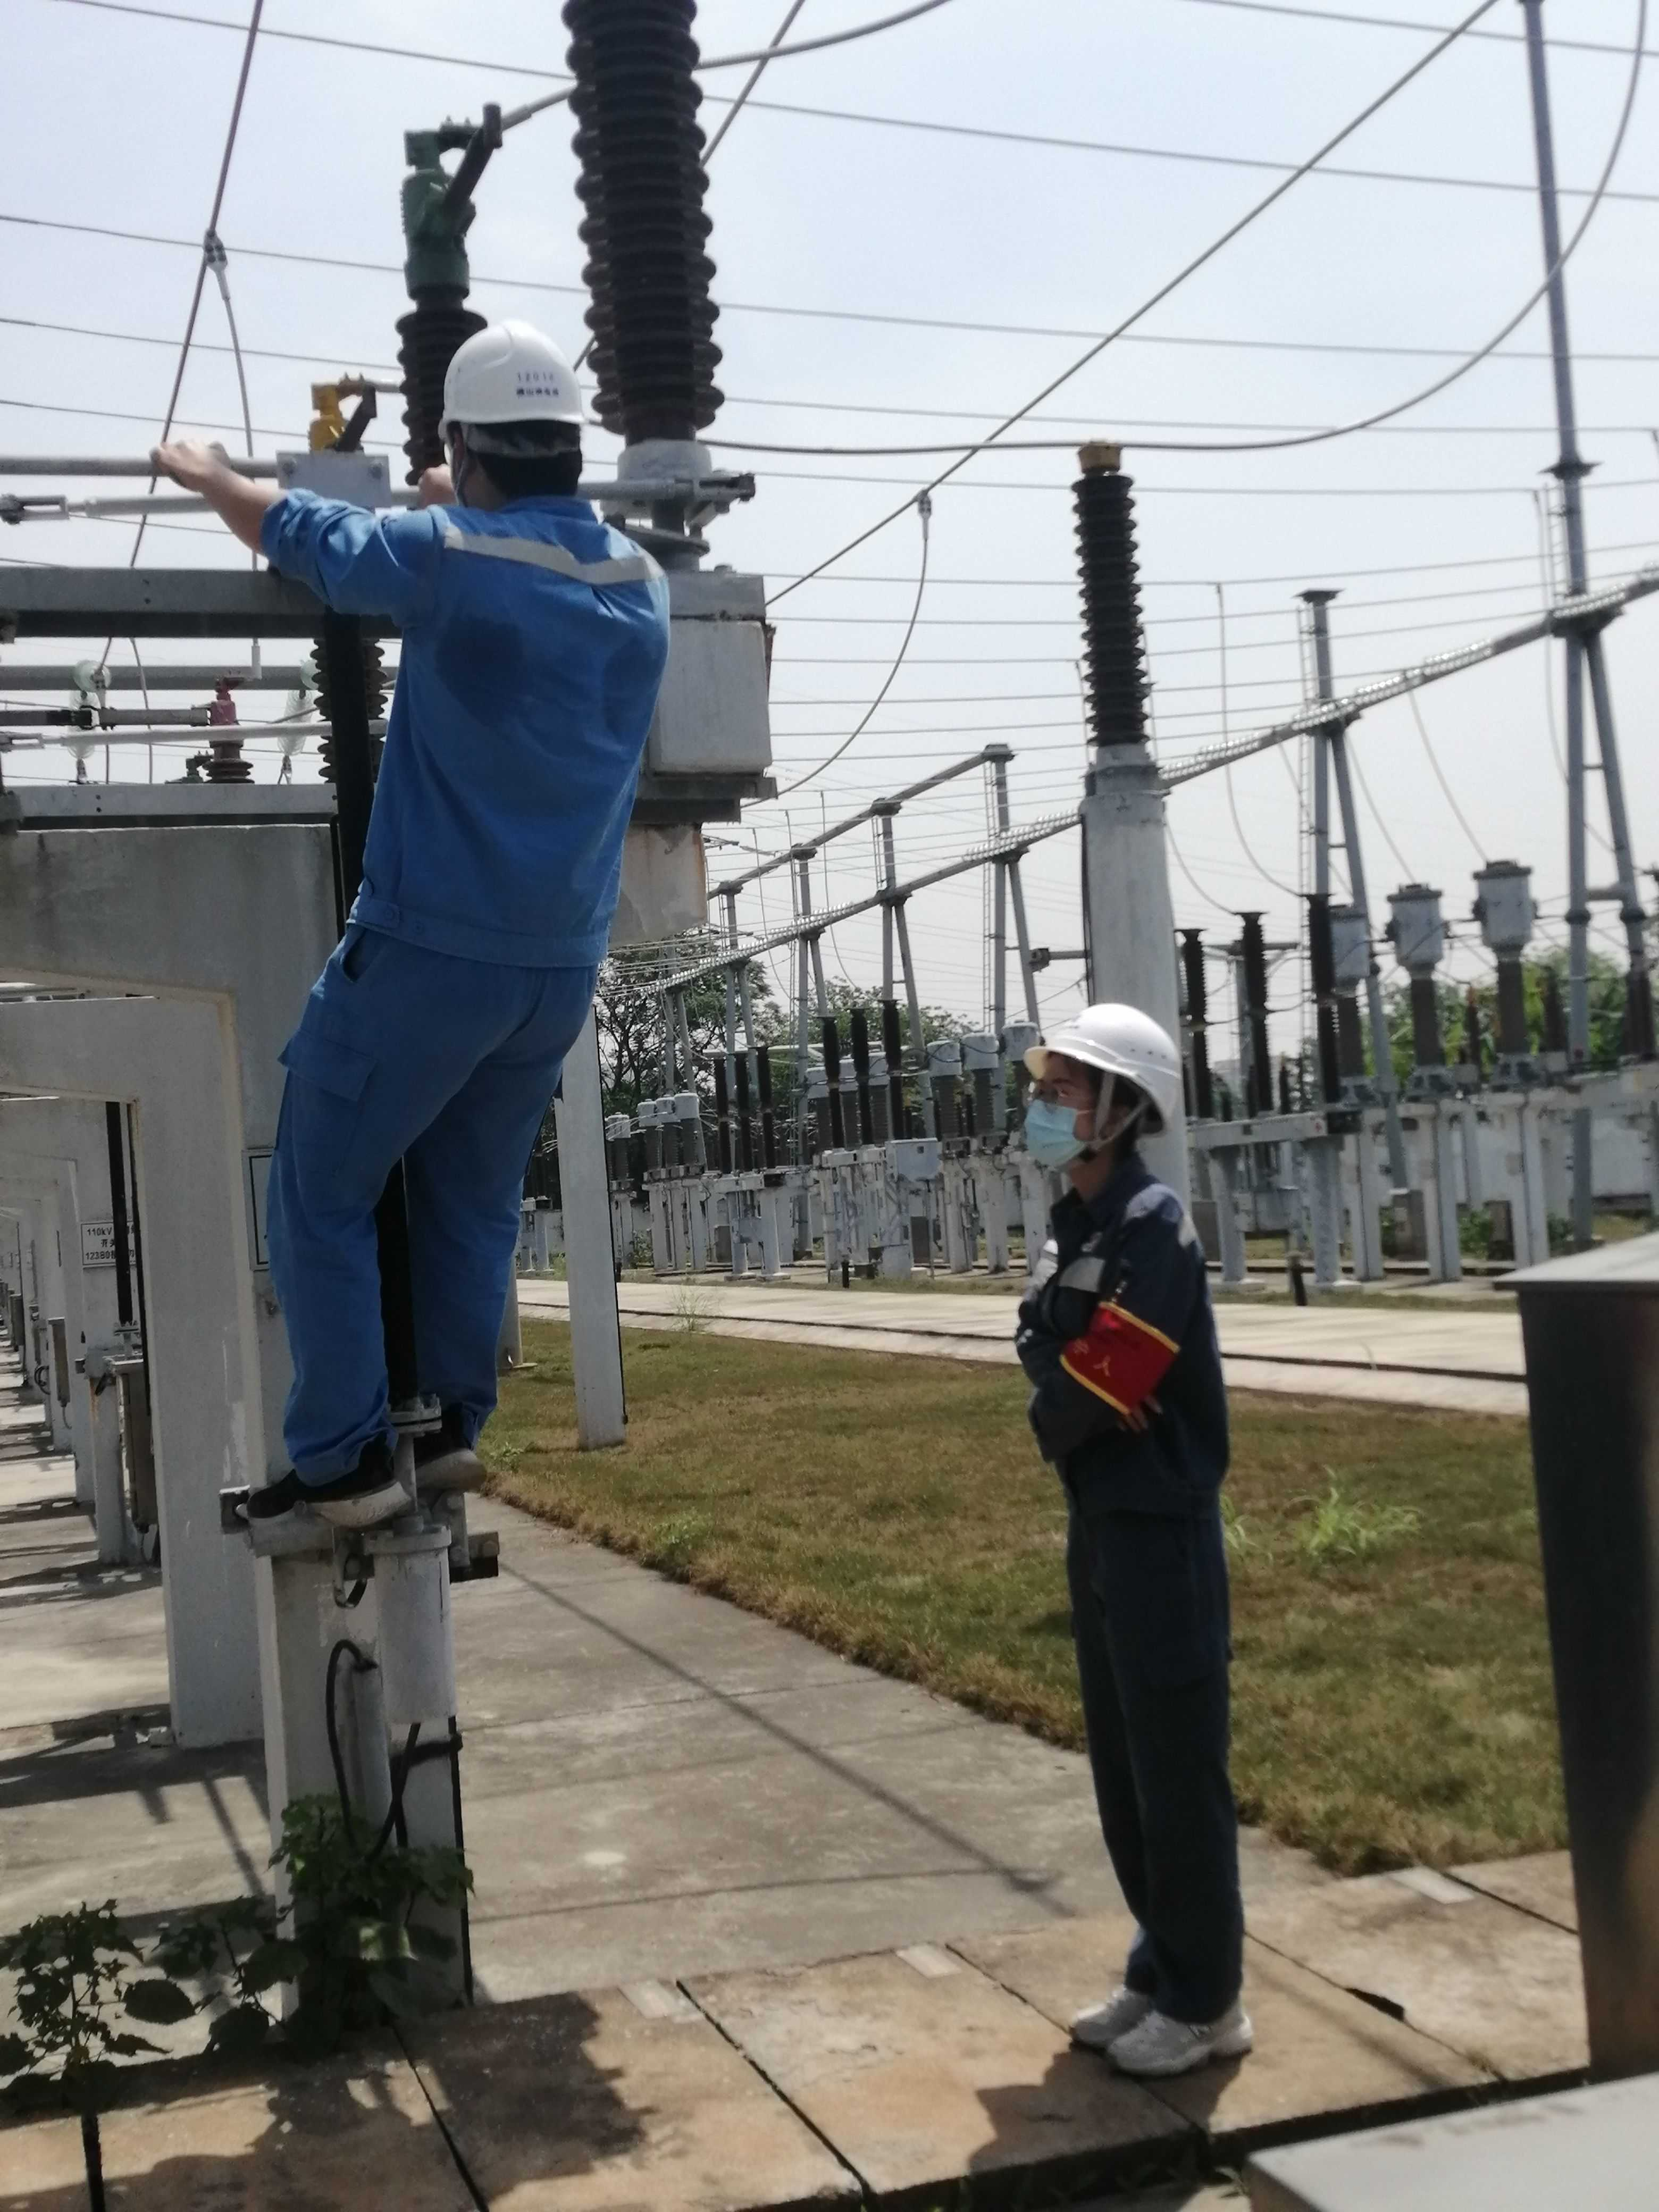downsuit: (260, 991, 605, 1470), (1066, 1515, 1255, 2022)
upsuit: (279, 496, 674, 958), (1019, 1174, 1232, 1498)
wrongtop: (152, 427, 350, 594)
